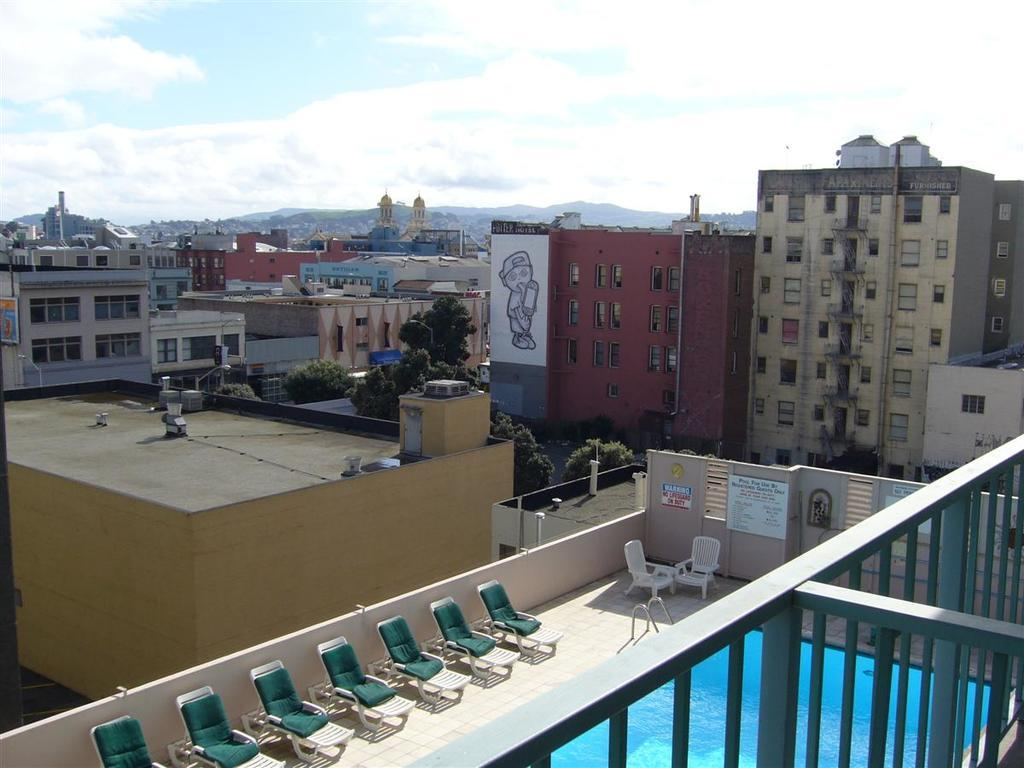Chair: (241, 659, 355, 765), (303, 639, 411, 731), (164, 680, 263, 767), (369, 616, 468, 701), (419, 597, 520, 679), (470, 579, 562, 655), (86, 711, 166, 767), (617, 541, 680, 602), (672, 536, 713, 597)
